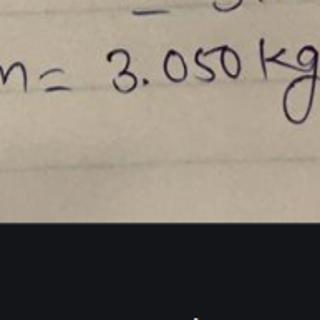.: (140, 77, 154, 90)
0: (159, 46, 188, 84), (218, 46, 243, 81)
3: (106, 44, 137, 93)
5: (193, 44, 221, 83)
